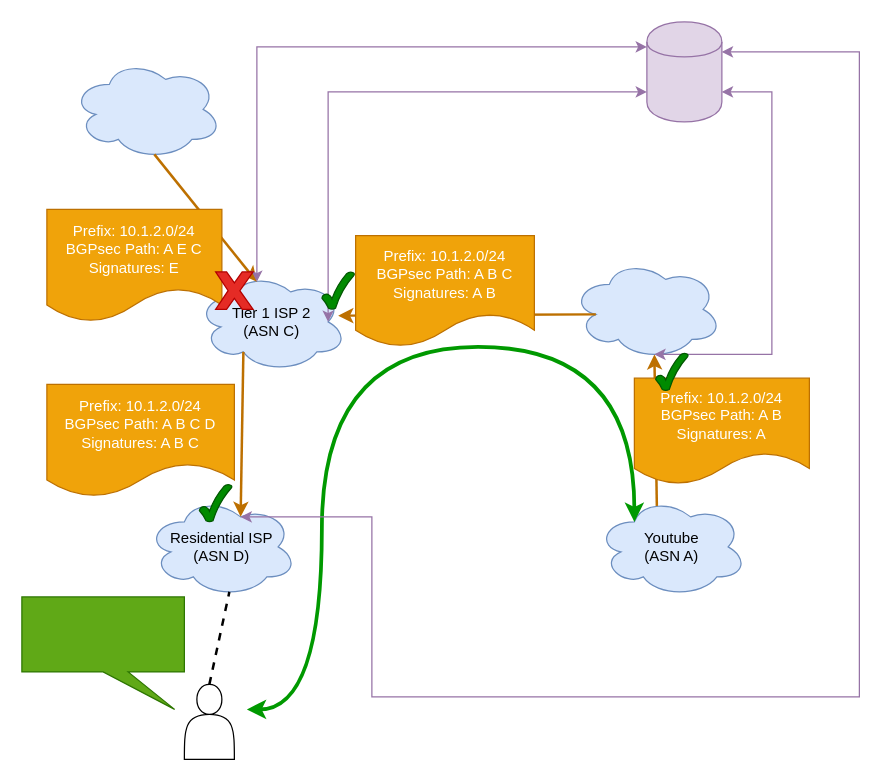
Image size: 893x781. Some labels were removed from this diagram. Here are the shapes that lost their labels. From the top down, the centre of each, then its label:
At (684,71): "ROA Datastore".
At (146,108): "Malicious Organization (ASN E)".
At (646,308): "Tier 1 ISP 1 (ASN B)".
At (102,652): "Visit youtube at 10.1.2.3".
